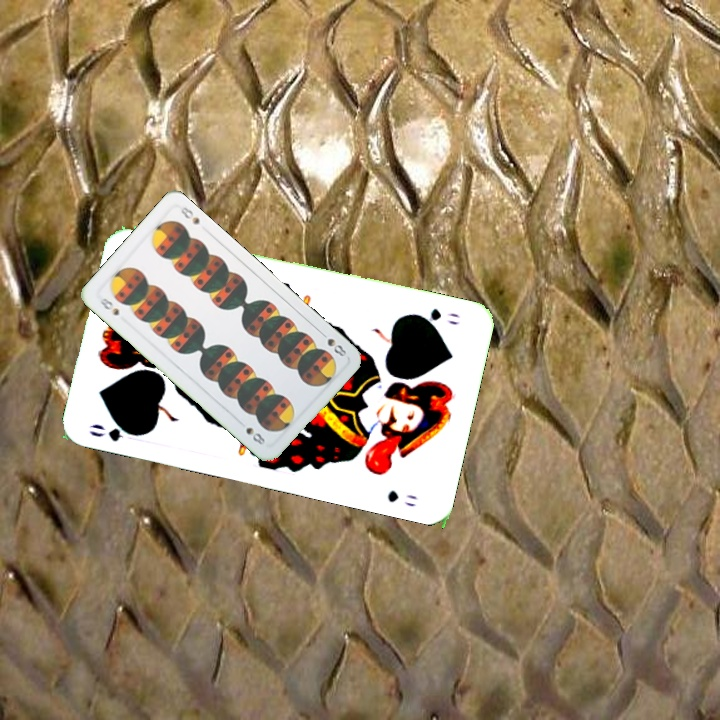GO: (85, 417, 145, 444), (409, 304, 462, 328)
S8: (316, 327, 350, 359), (96, 294, 121, 318)
